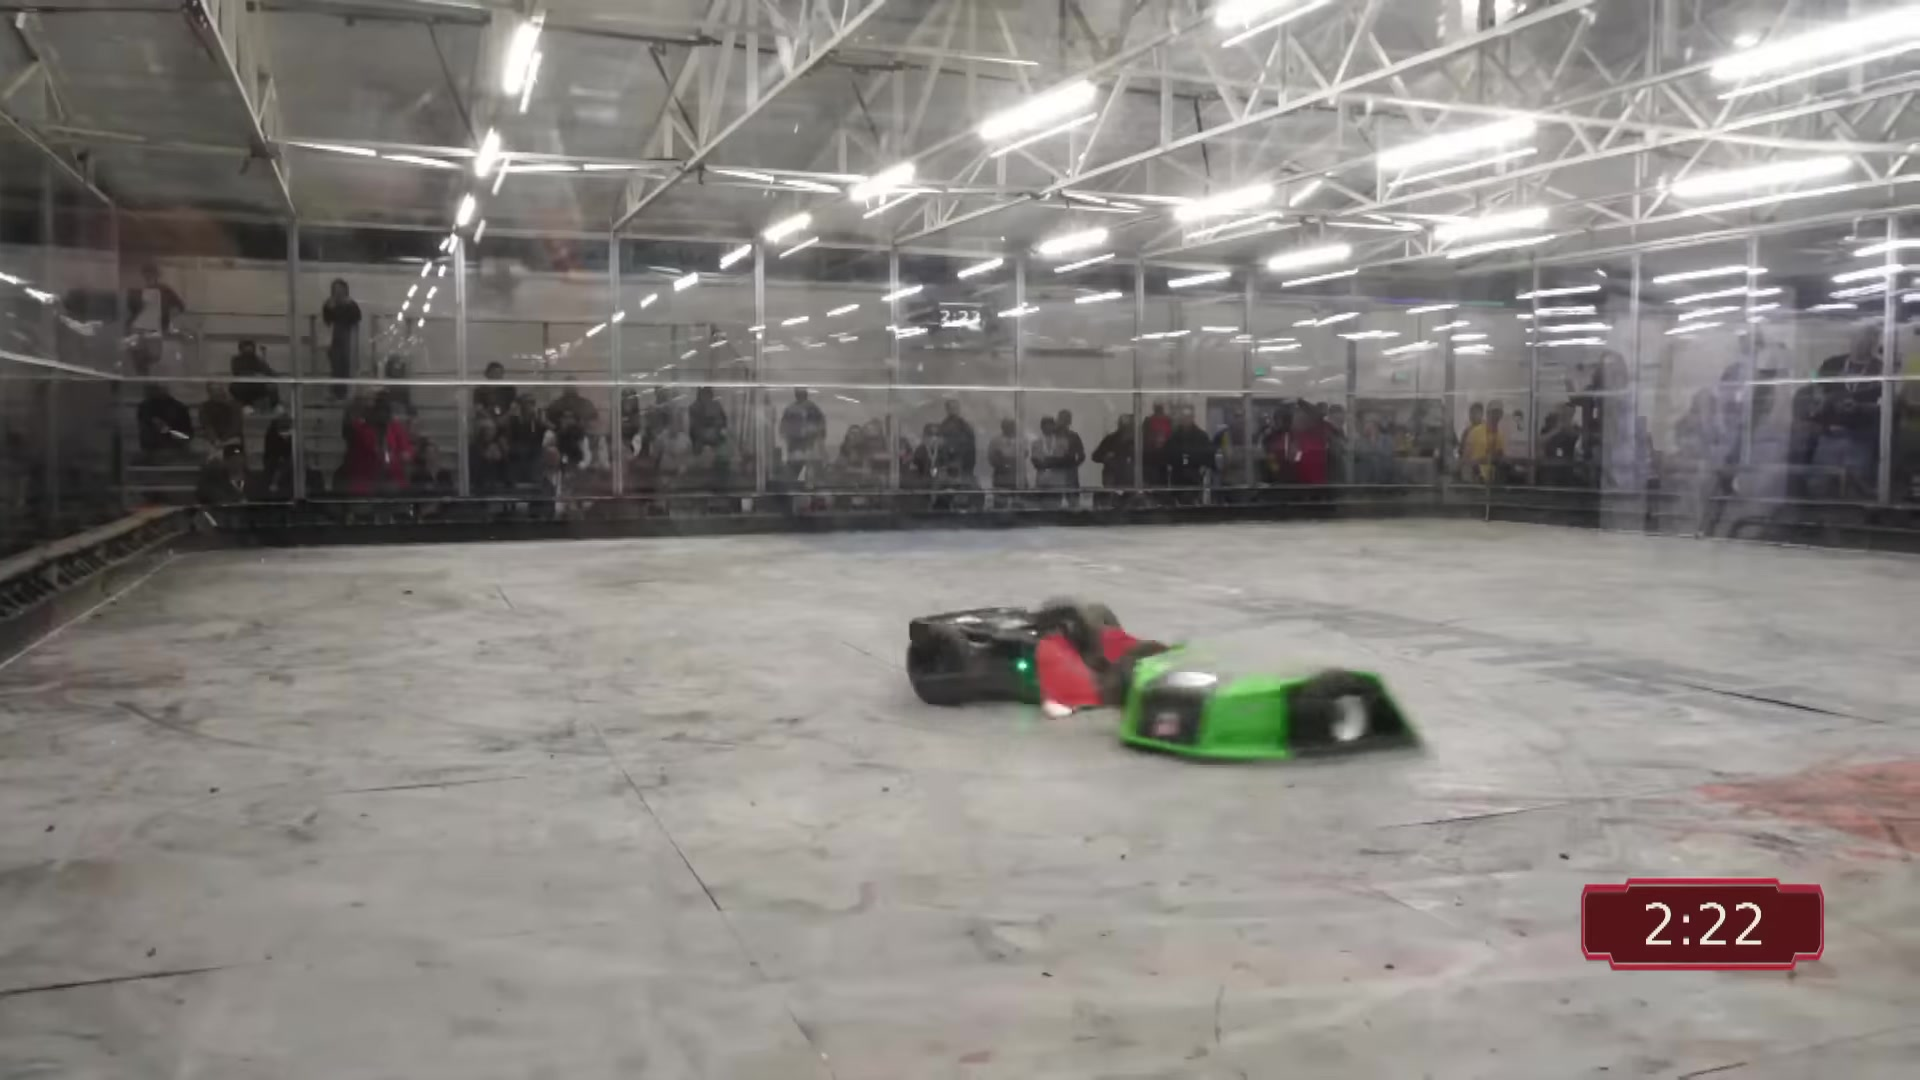combatbot: (1126, 647, 1424, 761), (907, 596, 1158, 712)
